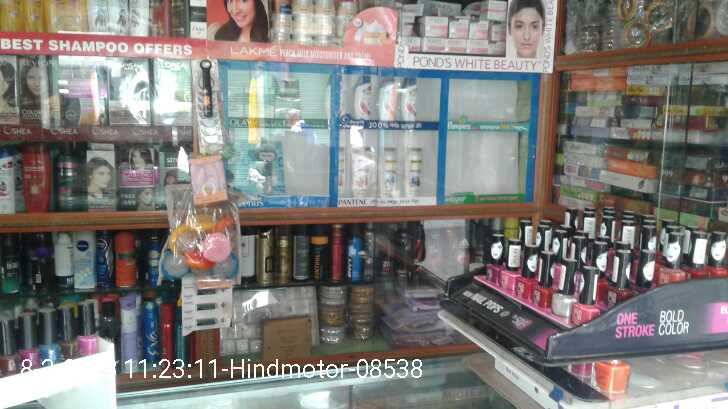venus: (250, 140, 284, 194)
